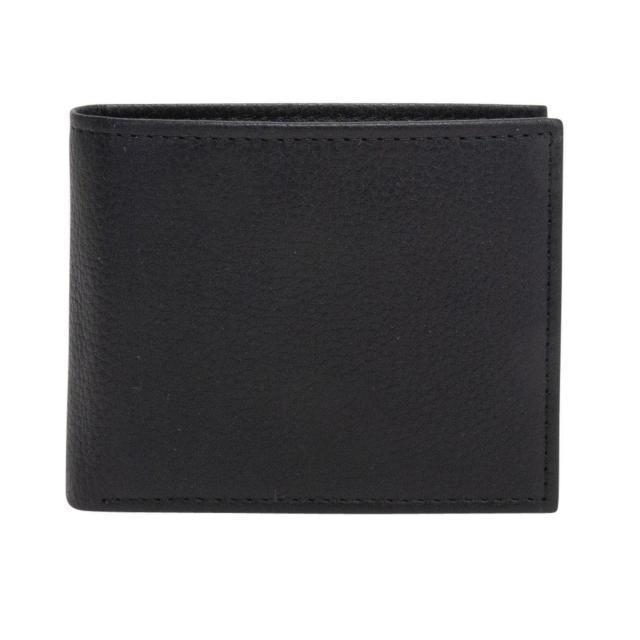wallet: (63, 94, 561, 514)
